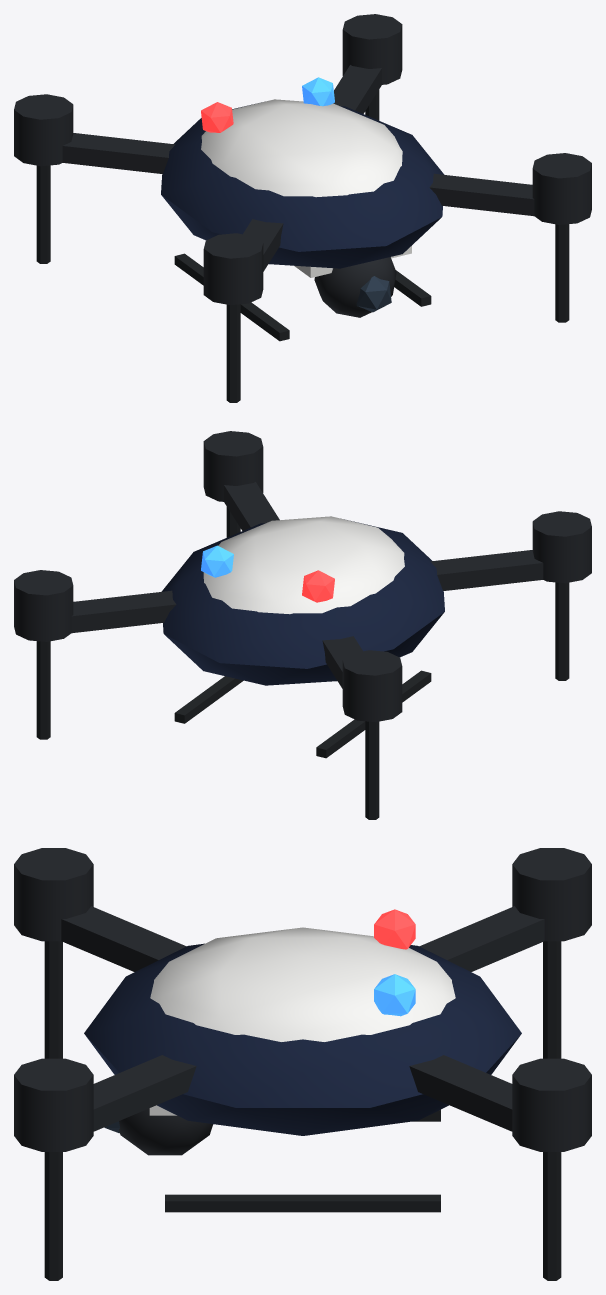
Rendered from drone.fbx.
3 views of the same model, one above another, from view 1: azimuth 30°, elevation 25°; view 2: azimuth 150°, elevation 25°; view 3: azimuth 270°, elevation 25° (orthographic). The views are drawn at different scales.
Parts seen in each view (by area): view 1: drone; view 2: drone; view 3: drone.
Part boxes in pixels (x1,y1,x2,y2): drone: [14, 14, 591, 402]; drone: [14, 431, 591, 819]; drone: [14, 848, 591, 1280].
Bounding box in the file's own units: 1.87 × 0.83 × 1.89.
